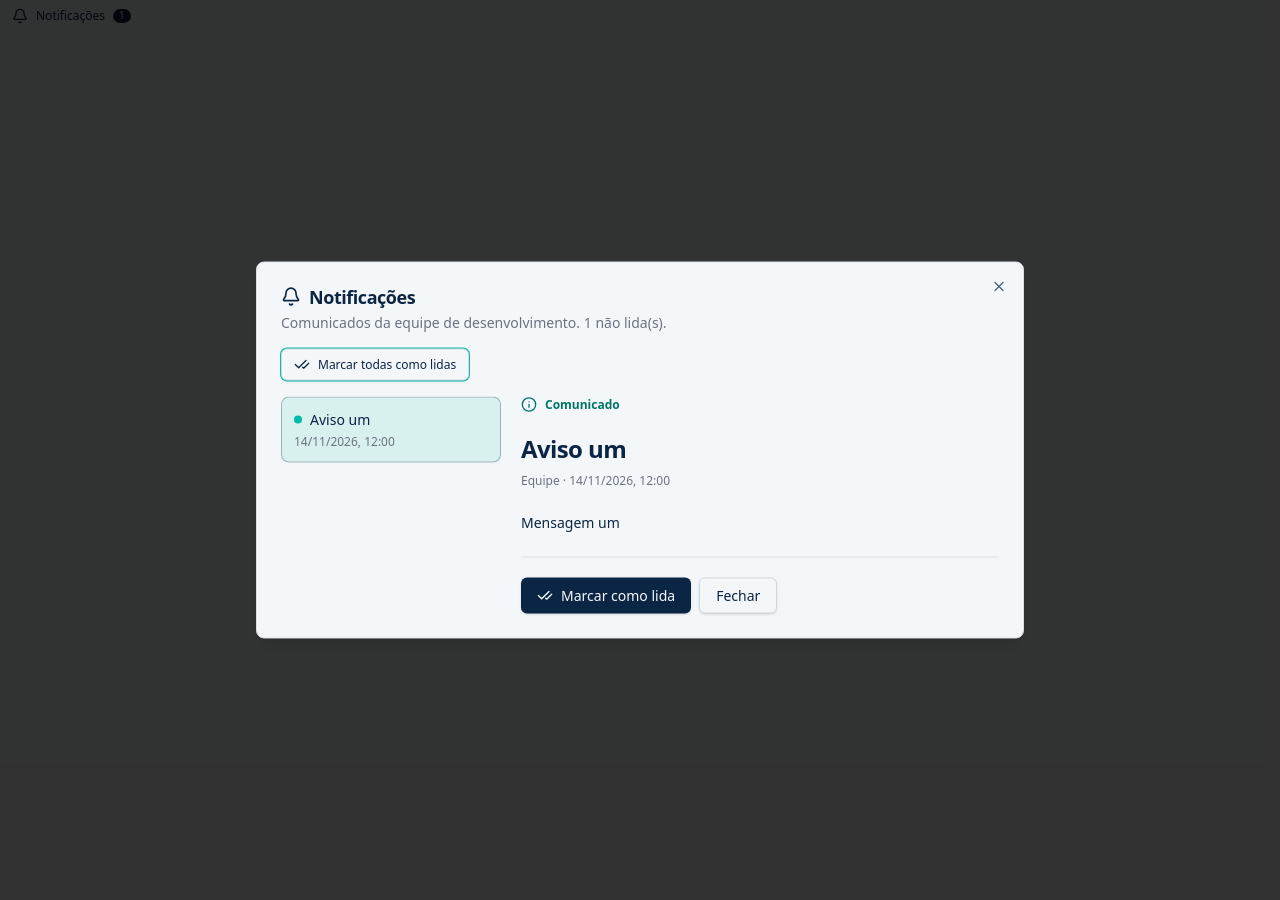
Scenario: Novos comunicados › abre automaticamente para um aviso recebido depois de fechar o anterior, sem marcá-lo na abertura
Check: the dialog is shown, box [256, 262, 1024, 638]
Click the button "Fechar" at (738, 596), box [699, 578, 777, 614]
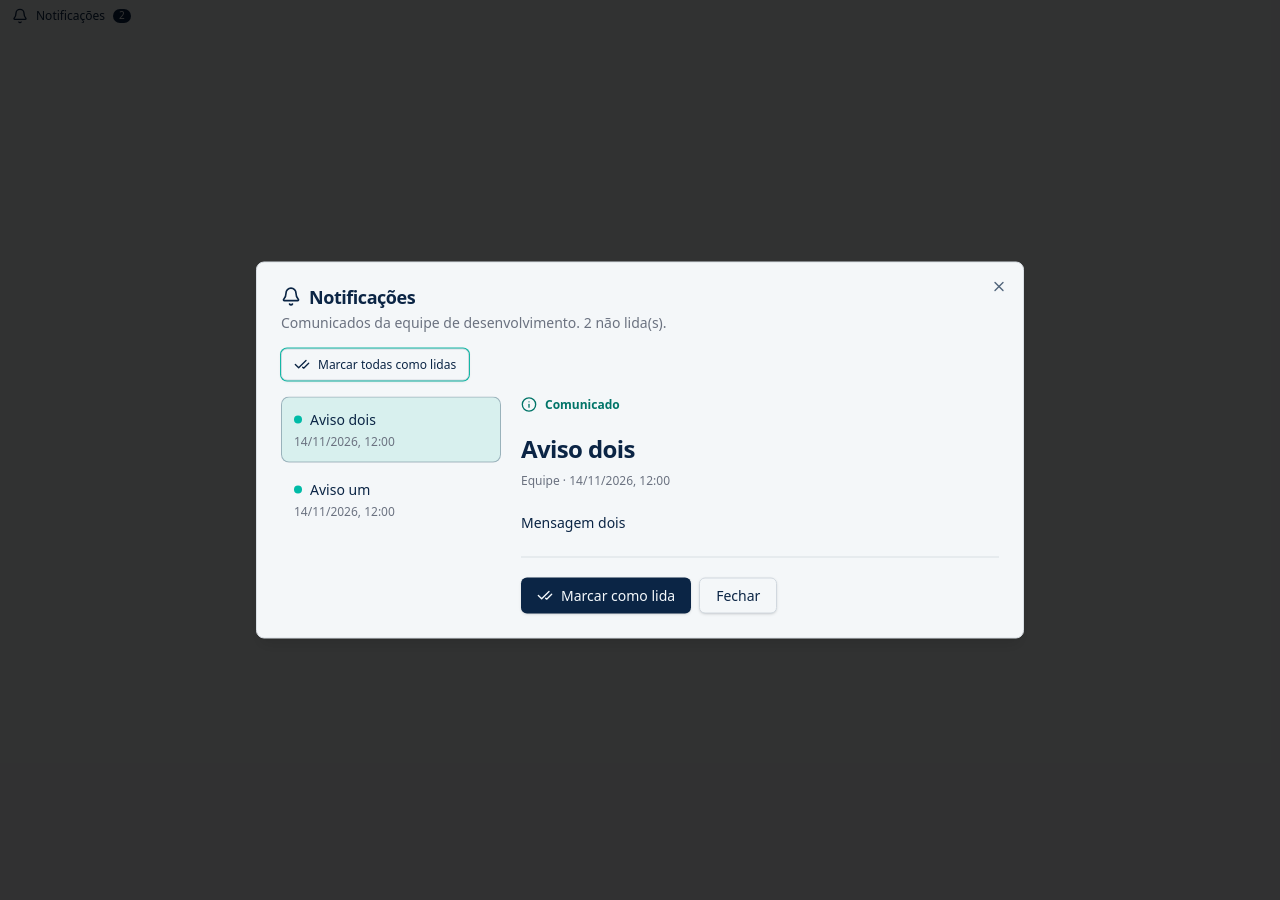
Check: the dialog is shown, box [256, 262, 1024, 638]
Check: the text "Mensagem dois" is shown, box [521, 512, 626, 532]
Click the button "Marcar como lida" at (606, 596), box [521, 578, 691, 614]
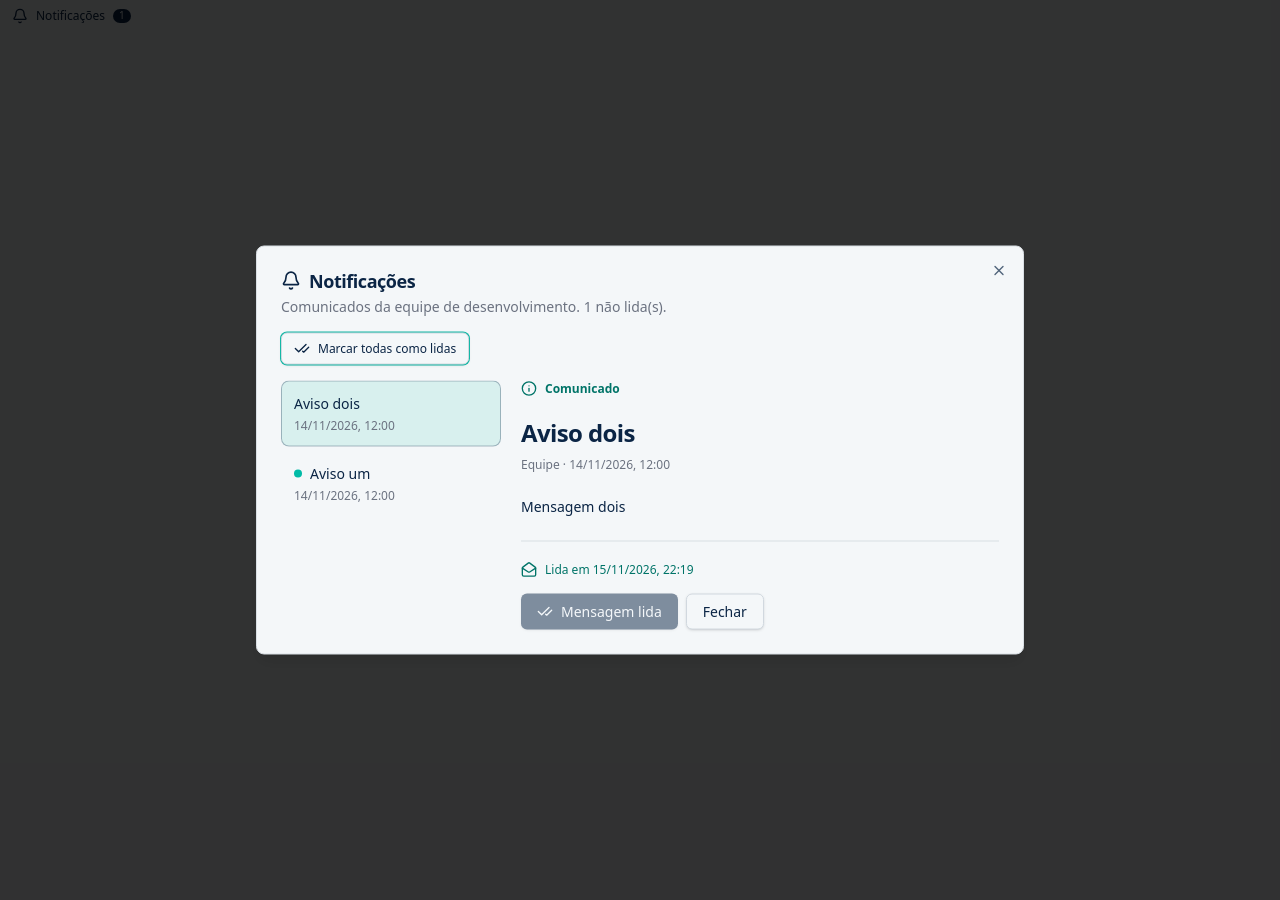
Check: the button "Mensagem lida" is disabled, box [521, 594, 678, 630]
